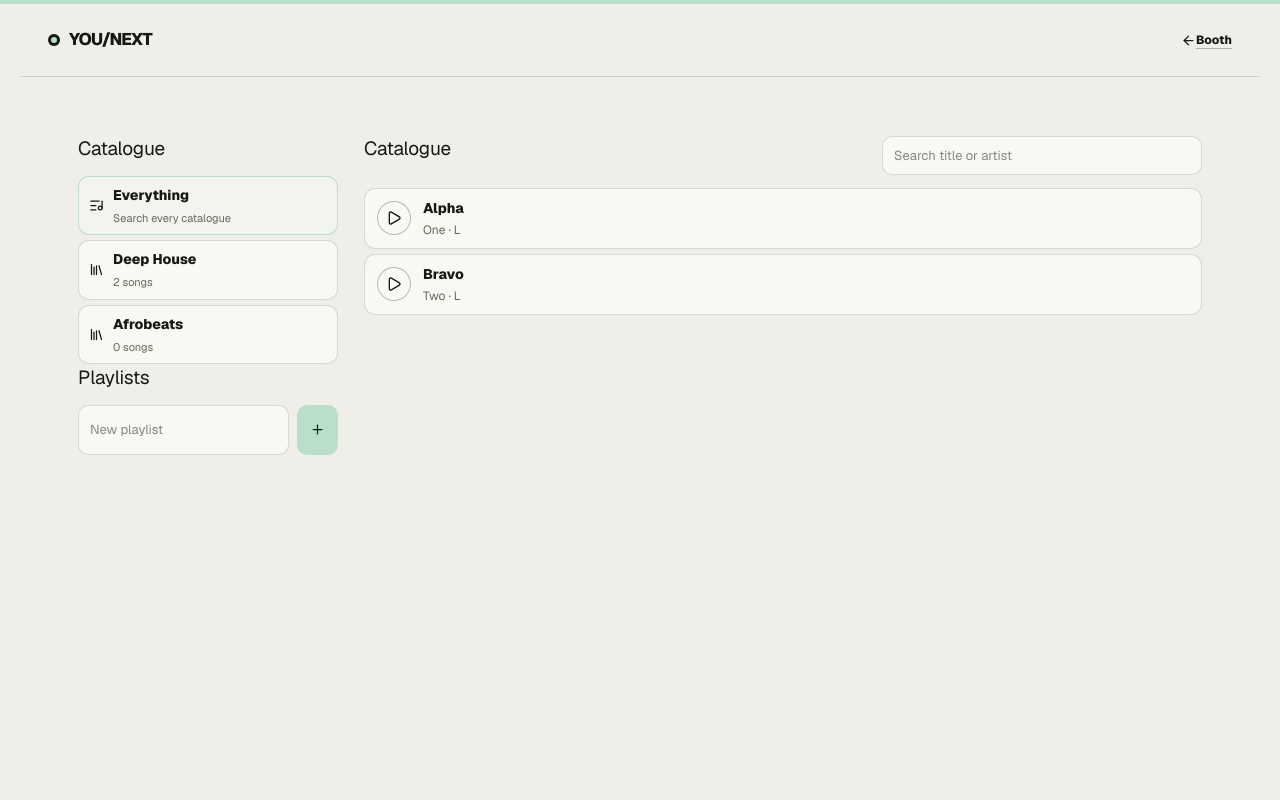
Test case: the /play player › ignores a slow signed-URL fetch once a later click has won
Click the button named "Play Alpha" at (394, 218), box [377, 201, 411, 235]
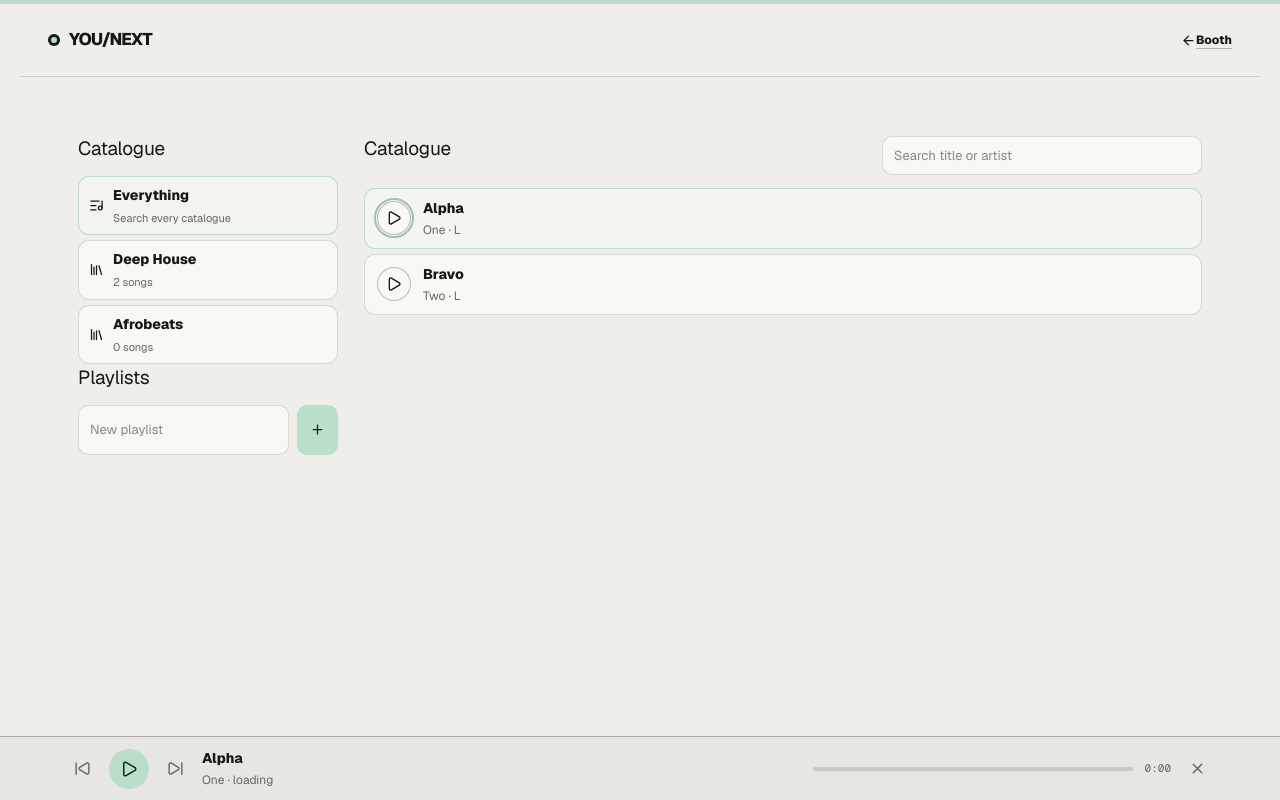
Click the button named "Play Bravo" at (394, 284), box [377, 267, 411, 301]
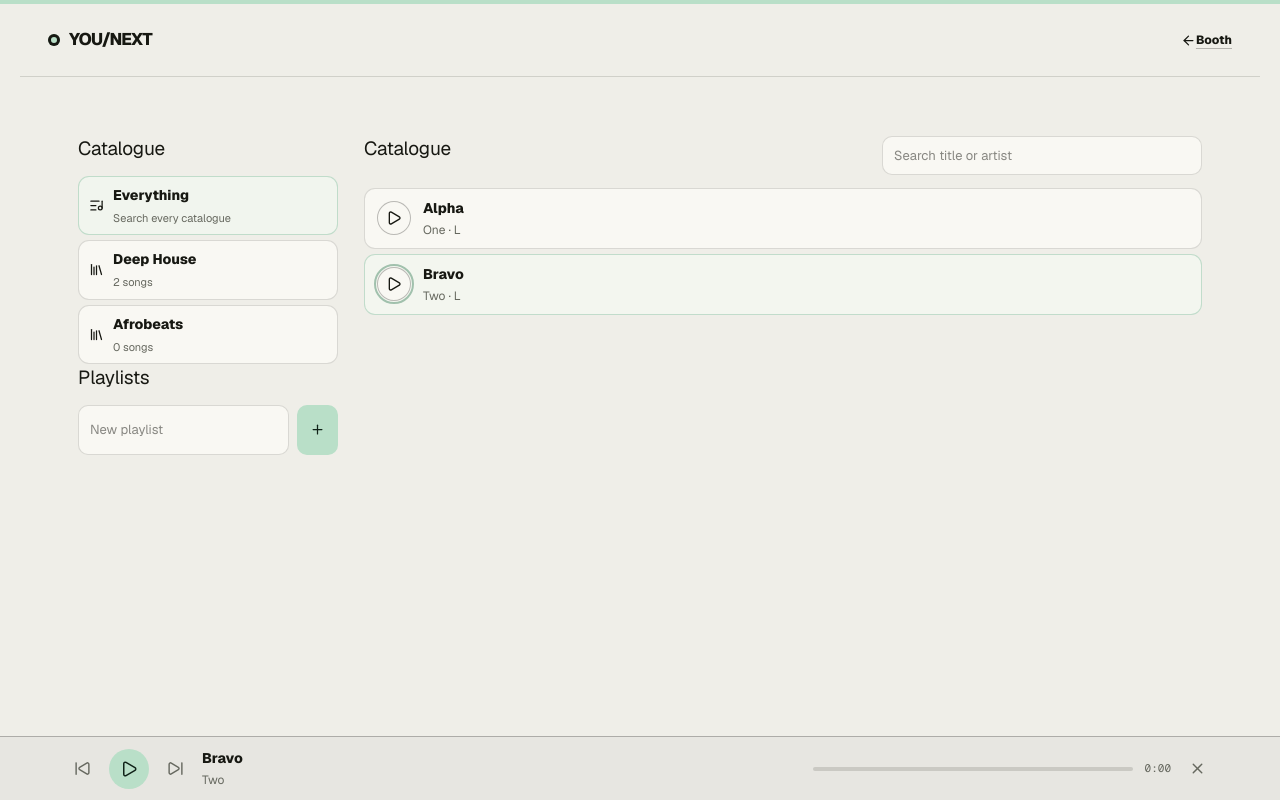
Check: the text "Bravo" in the row of "0:00" is shown, box [202, 749, 243, 767]
